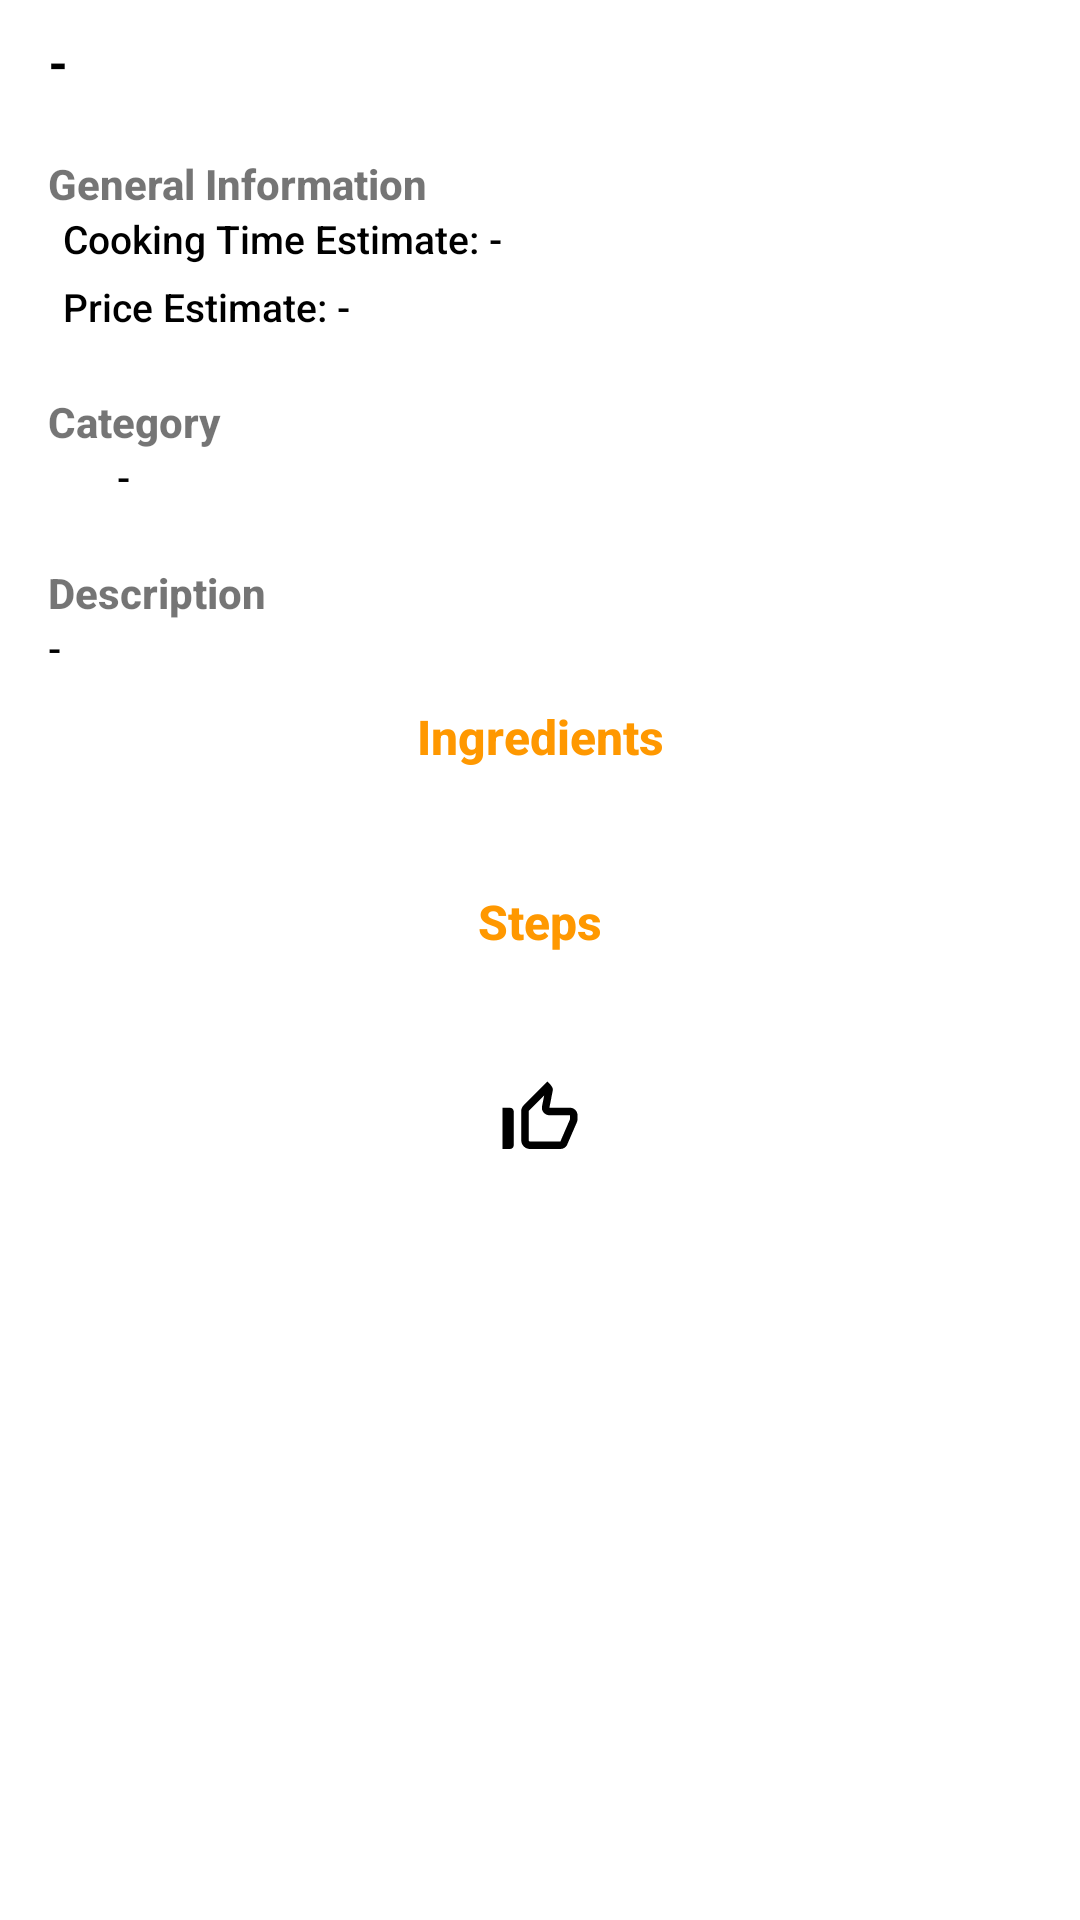

Point at icon controls on the screen. Image size 1080*1920, points as [x,y].
like: [540,1115]
